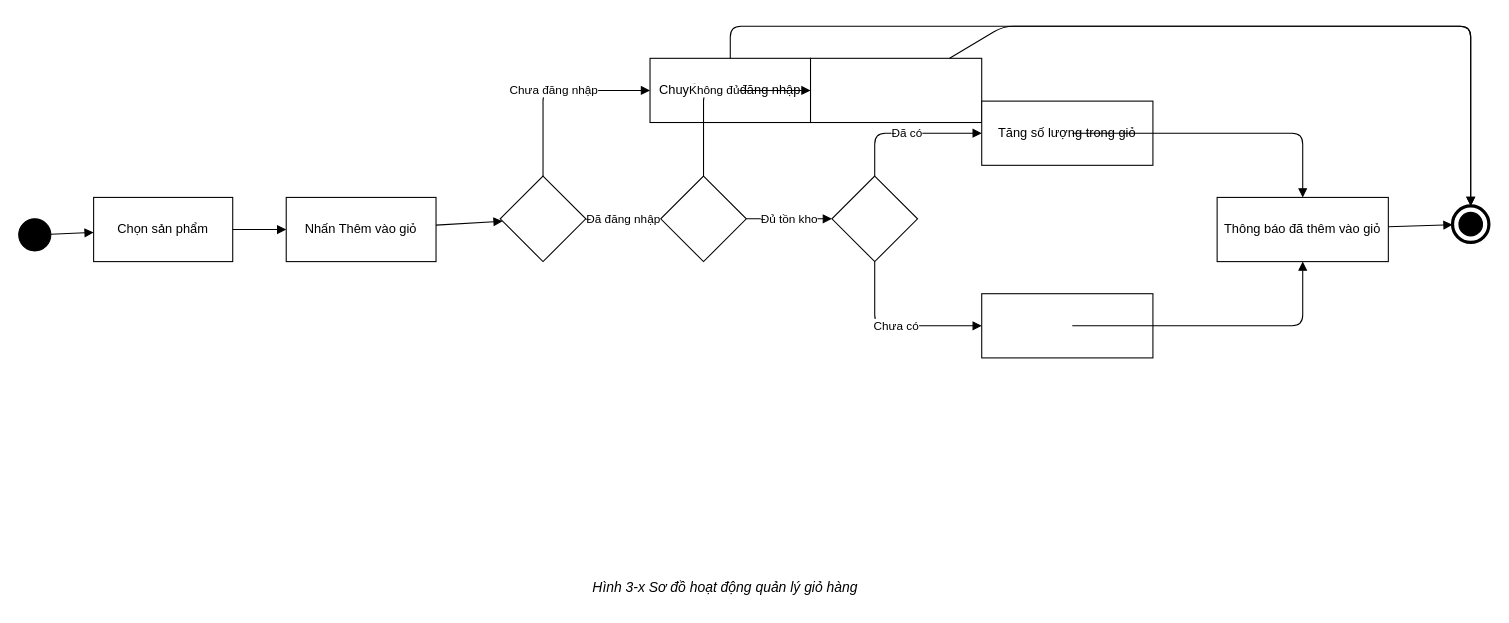
Image size: 1509x623. Some labels were removed from this diagram. The centre of each missing label's shape, as x and y in pixels:
"Thêm mới dòng giỏ hàng" belongs at [1067,325].
"Thông báo không đủ hàng" belongs at [895,90].
